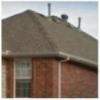chimneys: (46, 1, 54, 24), (62, 14, 68, 26), (78, 18, 82, 32)
